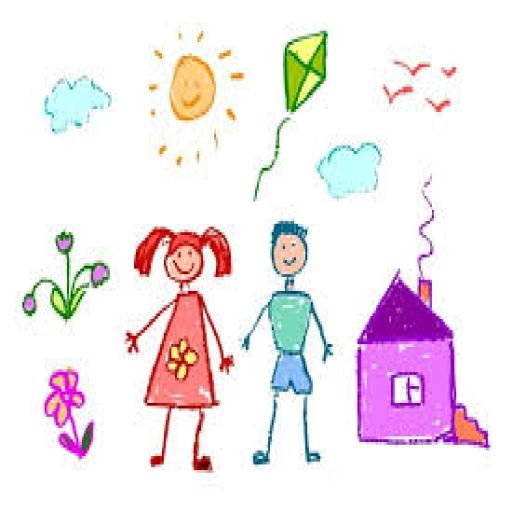person: (120, 217, 236, 474), (242, 218, 332, 472)
